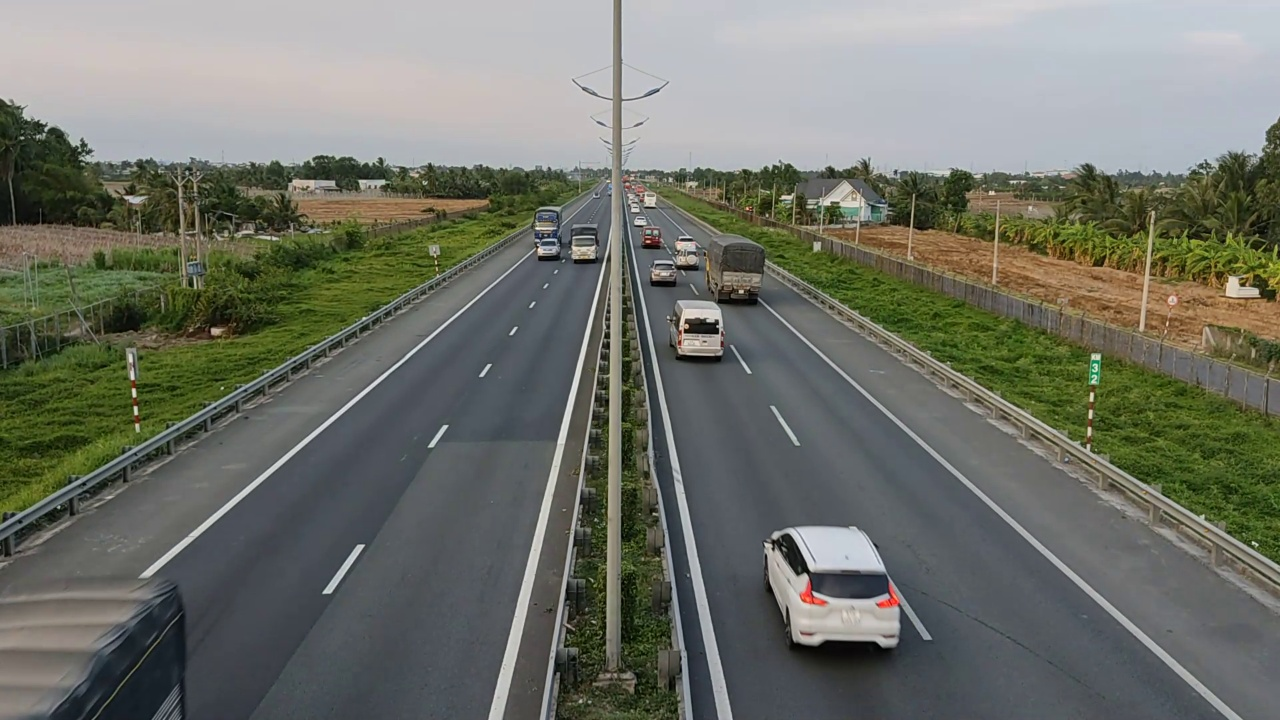car: (762, 524, 902, 650), (665, 298, 726, 360), (649, 259, 677, 286), (643, 226, 663, 247)
truck: (705, 233, 766, 303)
